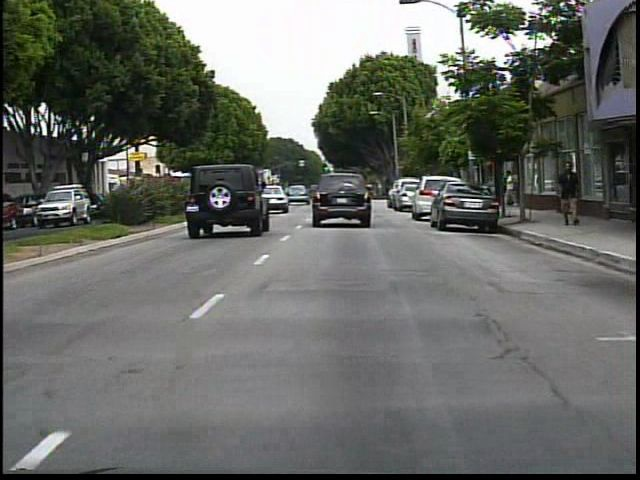person: (552, 155, 586, 231), (504, 168, 519, 209)
